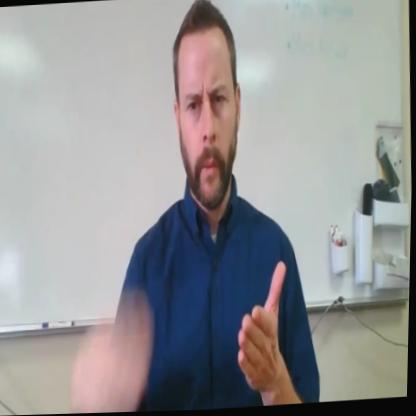Expensive: (73, 230, 298, 414)
